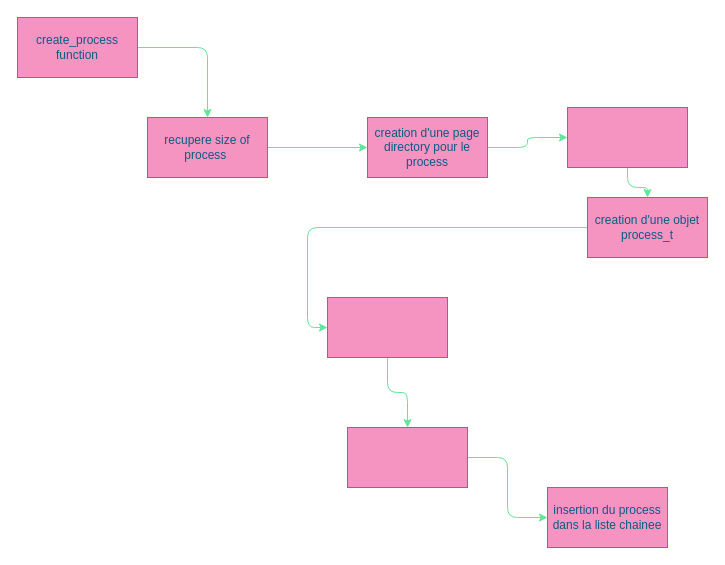
The diagram is 725 pixels wide and 565 high, and some of its shapes have lost their labels. Each missing label, with the centre of its shape:
"copie du process dans la page directory" belongs at [627,137].
"initialisation de esp epb eip" belongs at [407,457].
"initialisation du page directory de l'objet process_t" belongs at [387,327].
